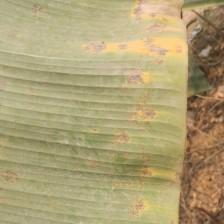pestalotiopsis: (0, 0, 187, 224)
